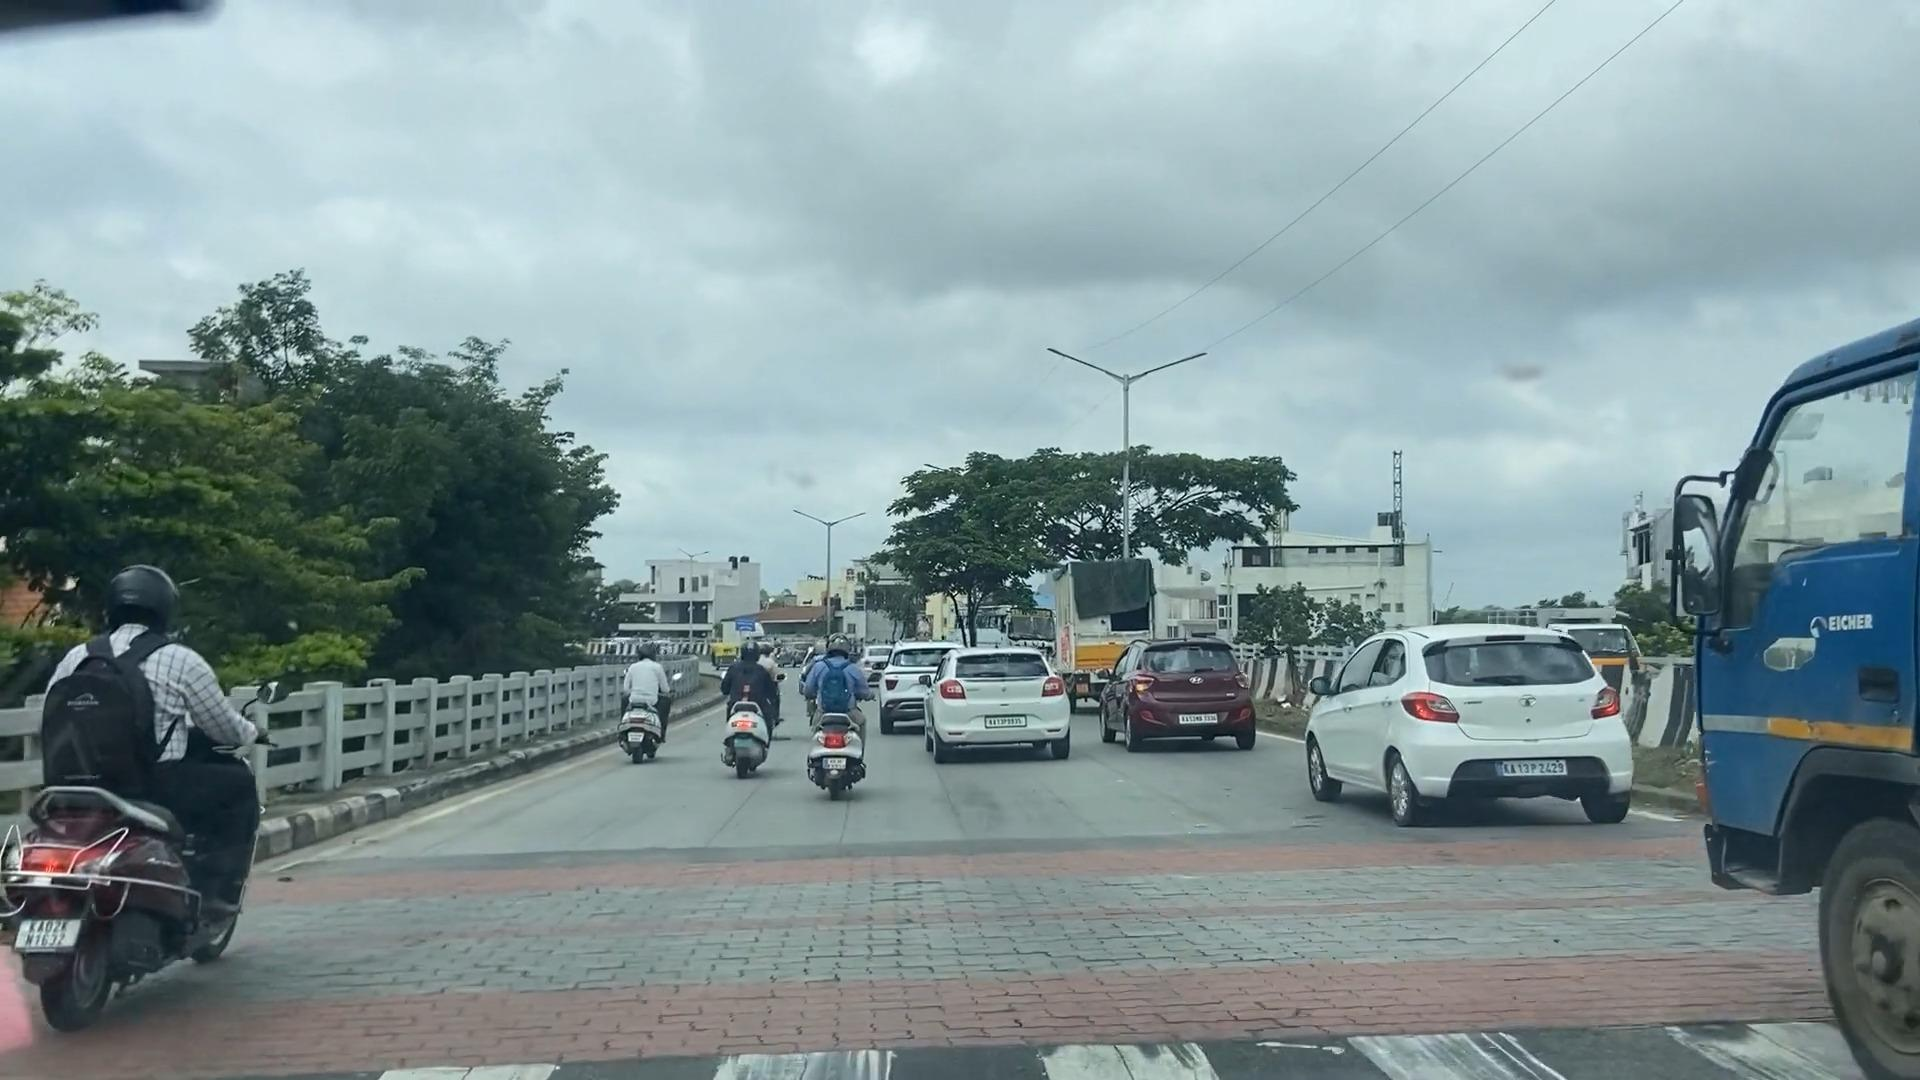LMV: (42, 596, 231, 1007), (1366, 651, 1596, 807), (938, 650, 1062, 767), (1126, 630, 1241, 748), (611, 634, 676, 761), (814, 640, 864, 806), (728, 636, 779, 777)
SpeedBump: (502, 829, 1518, 1080)
